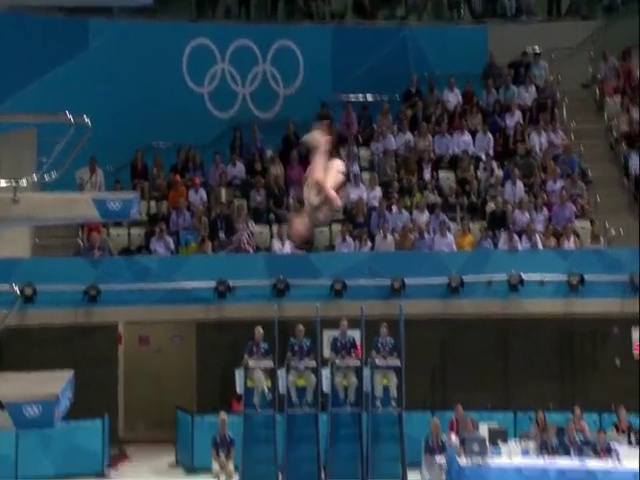diver: (286, 129, 348, 247)
